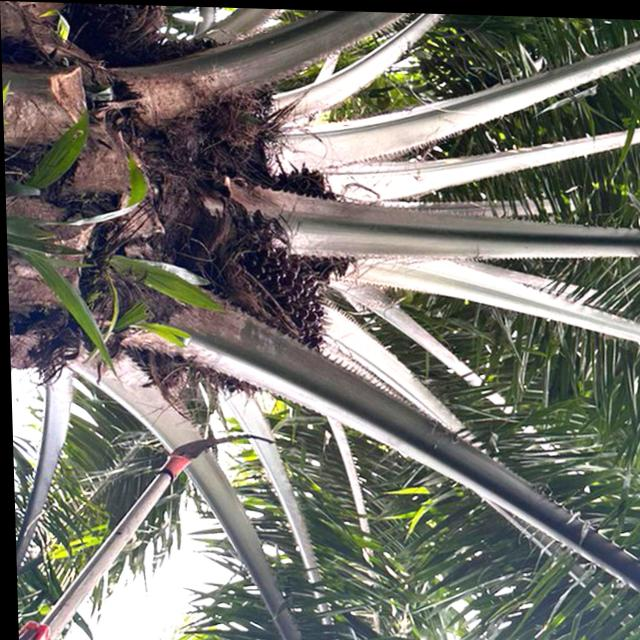unripe: (156, 208, 339, 404)
